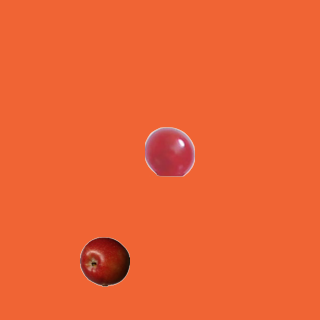Apple Braeburn: (79, 236, 129, 286)
Redcurrant: (144, 126, 194, 176)
